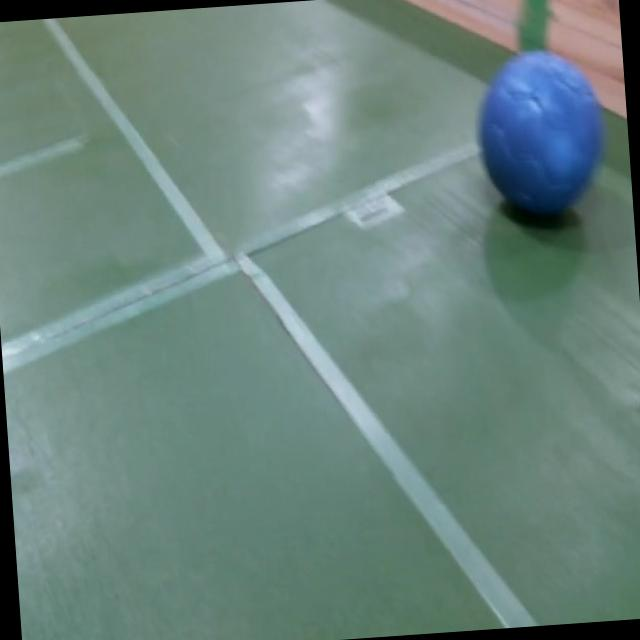blue_ball: (474, 45, 608, 225)
